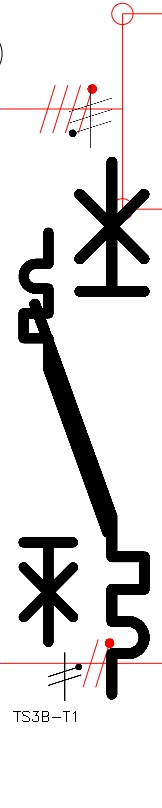interruptor_termomagnetico: (21, 148, 158, 708), (13, 222, 118, 653)
